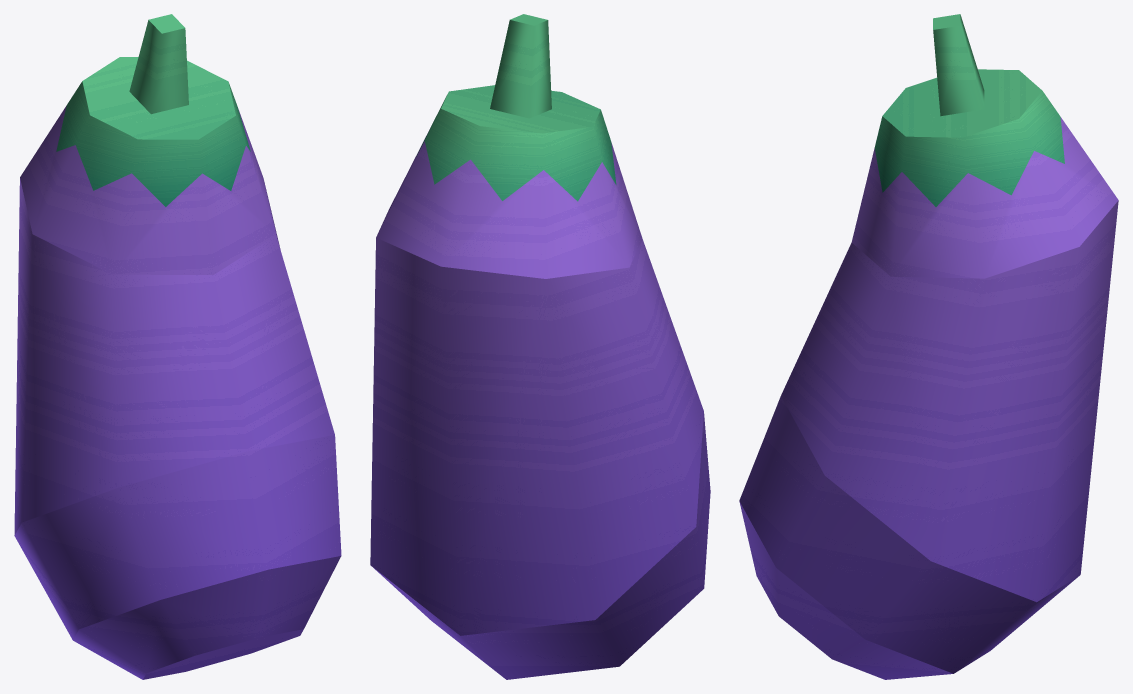
Rendered from eggplant.glb.
3 renders of one model, left to right at view 1: azimuth 30°, elevation 25°; view 2: azimuth 150°, elevation 25°; view 3: azimuth 270°, elevation 25°, orthographic. The views are drawn at different scales.
Visible parts, largest first — view 1: eggplant; view 2: eggplant; view 3: eggplant.
Part boxes in pixels (x1,y1,x2,y2): eggplant: (14,14,341,679); eggplant: (370,14,710,679); eggplant: (739,14,1118,679).
Bounding box in the file's own units: 0.204 × 0.4052 × 0.2156.
1 material, 1 textured.
